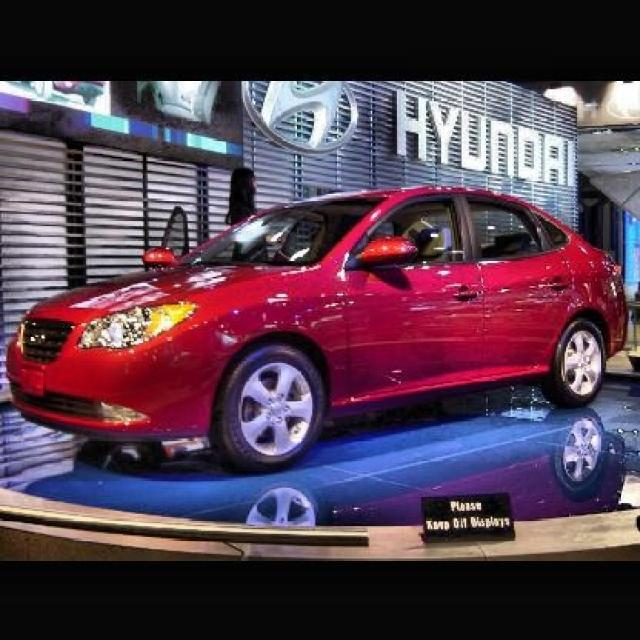red: (10, 190, 629, 448)
